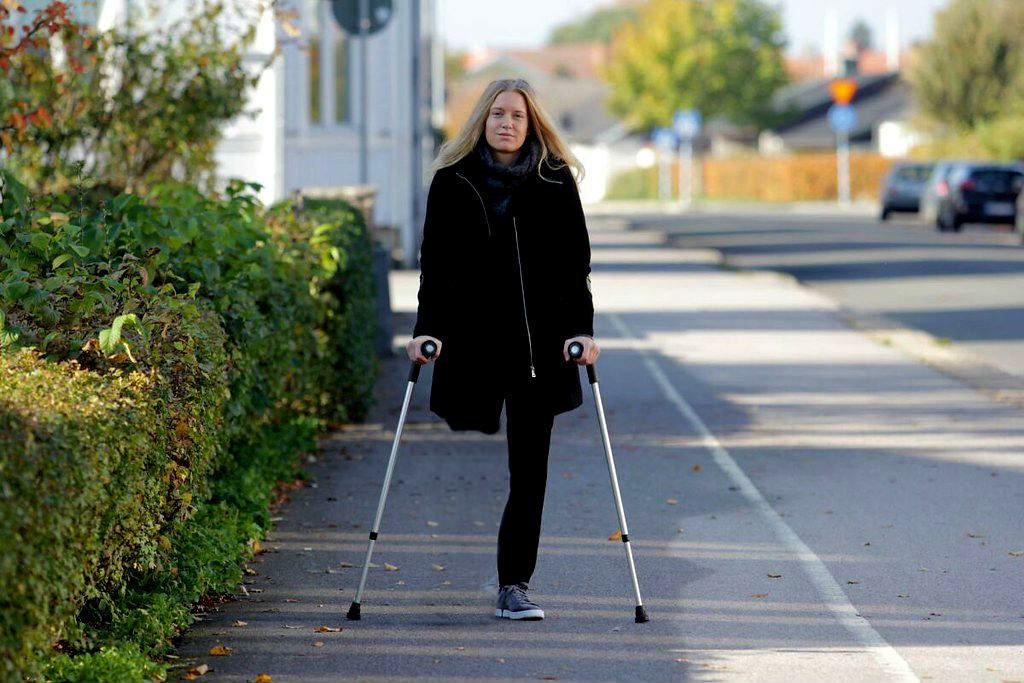crutches: (346, 78, 651, 624)
